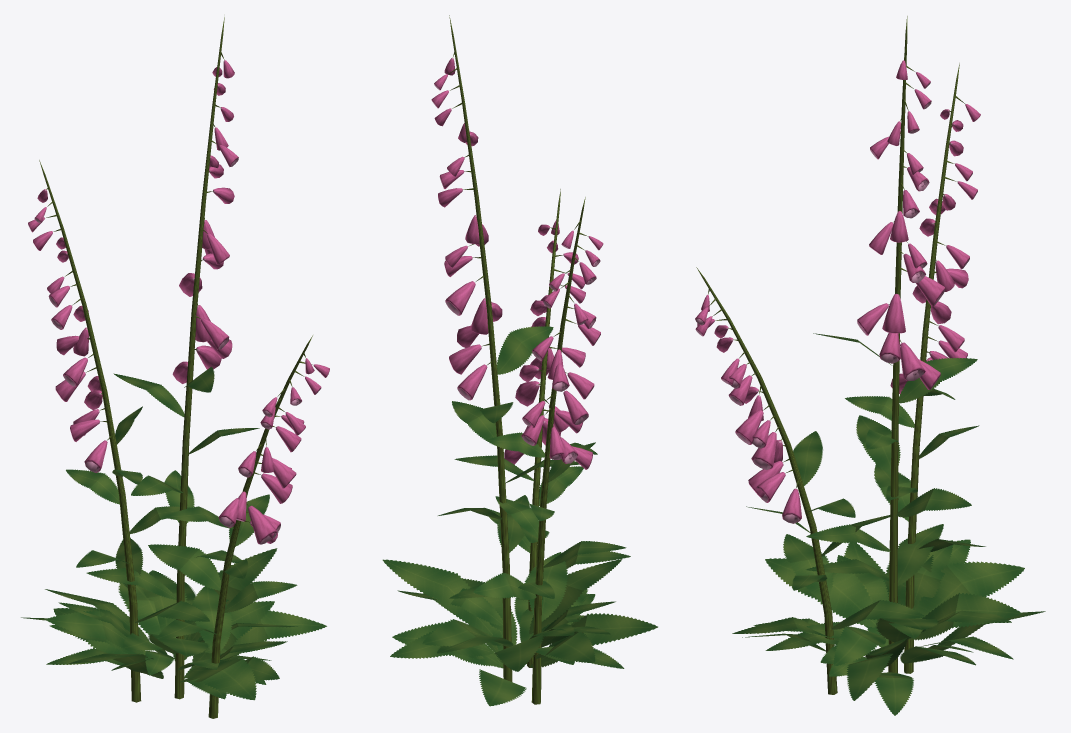
Rendered from foxglove.glb.
3 views of the same model, side by side, from view 1: azimuth 30°, elevation 25°; view 2: azimuth 150°, elevation 25°; view 3: azimuth 270°, elevation 25° (orthographic). The views are drawn at different scales.
Visible parts, largest first — view 1: Foxglove; view 2: Foxglove; view 3: Foxglove.
Part boxes in pixels (x1,y1,x2,y2): Foxglove: [21, 17, 329, 718]; Foxglove: [382, 15, 657, 706]; Foxglove: [695, 16, 1045, 715].
Bounding box in the file's own units: 0.6561 × 1.49 × 0.6956.
3 materials, 3 textured.
